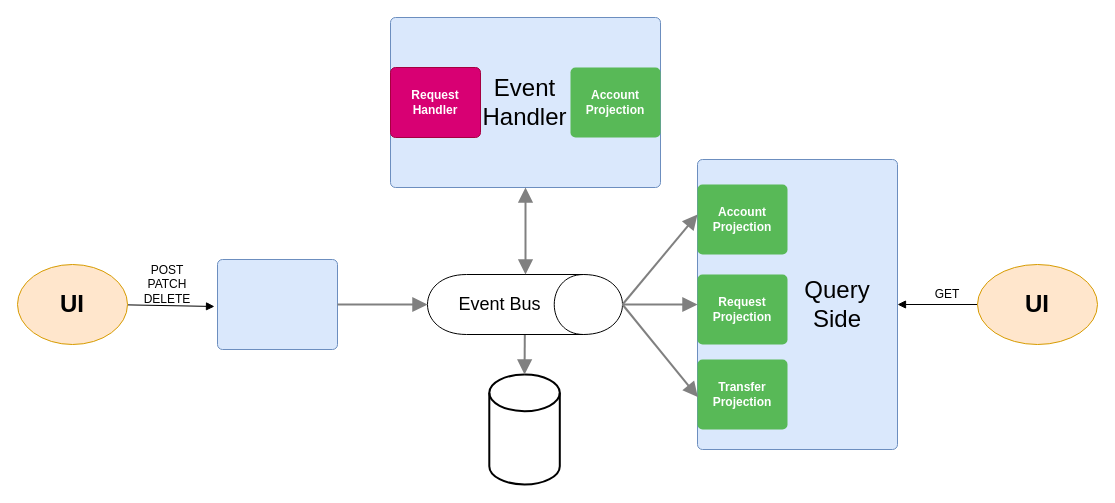
The diagram is 1115 pixels wide and 503 high, and some of its shapes have lost their labels. The shapes that lost their labels are listed below. From the top down, each one's centre as x and y in pixels, then its label:
(277,304): Command Side
(524,429): Event Store
